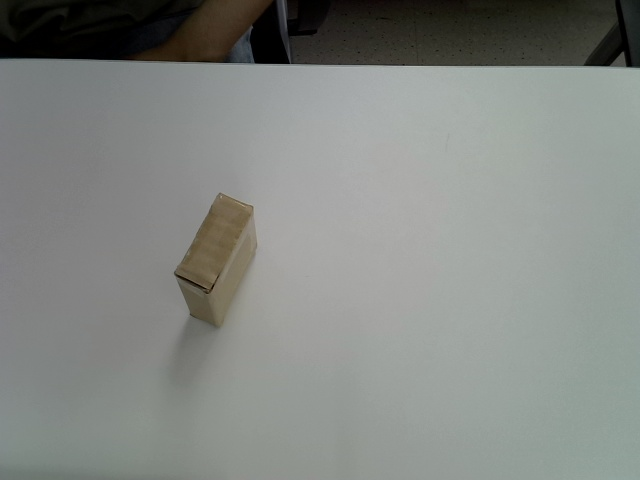normal: (174, 193, 258, 329)
